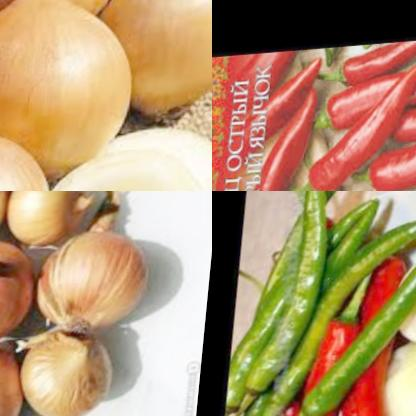hot pepper: (217, 191, 416, 416), (280, 191, 416, 416), (289, 55, 416, 191), (241, 94, 328, 191), (240, 61, 322, 157), (321, 72, 416, 144), (327, 44, 416, 95), (360, 128, 416, 191), (375, 79, 416, 151)
onion: (0, 0, 149, 181), (77, 0, 212, 141), (28, 215, 157, 351), (19, 110, 212, 191), (10, 310, 135, 416), (0, 191, 99, 255), (0, 238, 46, 365), (0, 0, 114, 39), (393, 254, 416, 358)
